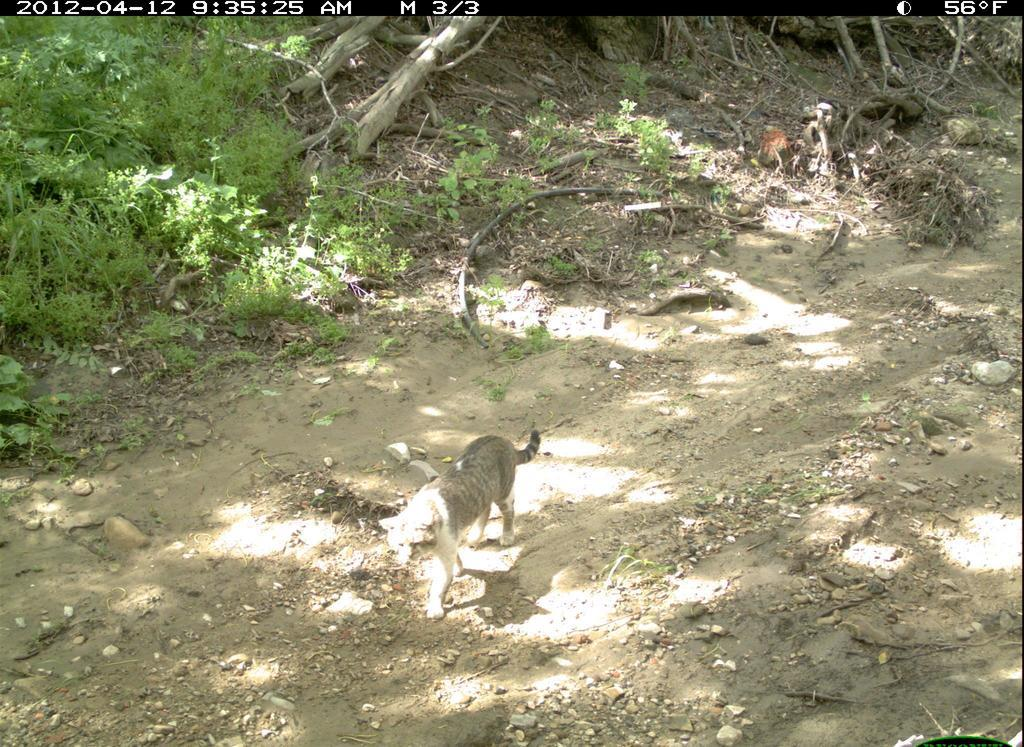cat: (376, 411, 551, 638)
